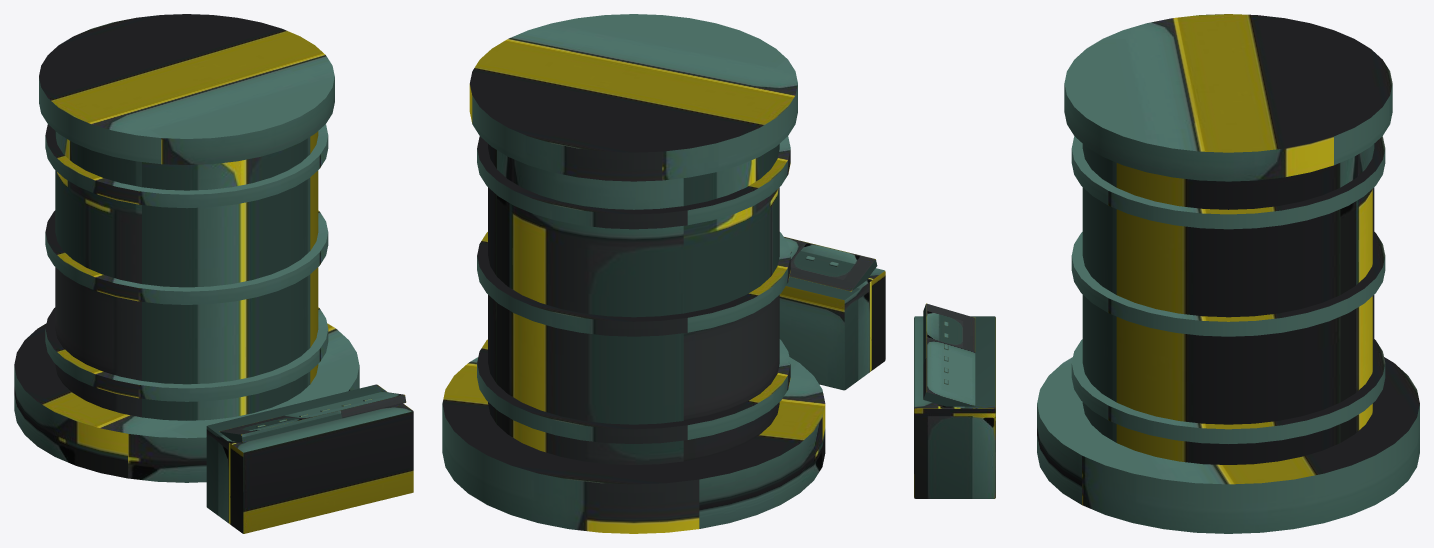
The model's file is PR_reactor.glb.
3 renders of one model, left to right at view 1: azimuth 30°, elevation 25°; view 2: azimuth 150°, elevation 25°; view 3: azimuth 270°, elevation 25°, orthographic. The views are drawn at different scales.
Visible parts, largest first — view 1: PR_reactor; view 2: PR_reactor; view 3: PR_reactor.
Boxes of the visible parts, x1,y1,x2,y2 form: PR_reactor: (14,14,413,533); PR_reactor: (442,14,885,533); PR_reactor: (914,14,1419,533).
Size of the model in its own units: 4.2 by 4.48 by 5.55.
1 material, 1 textured.
